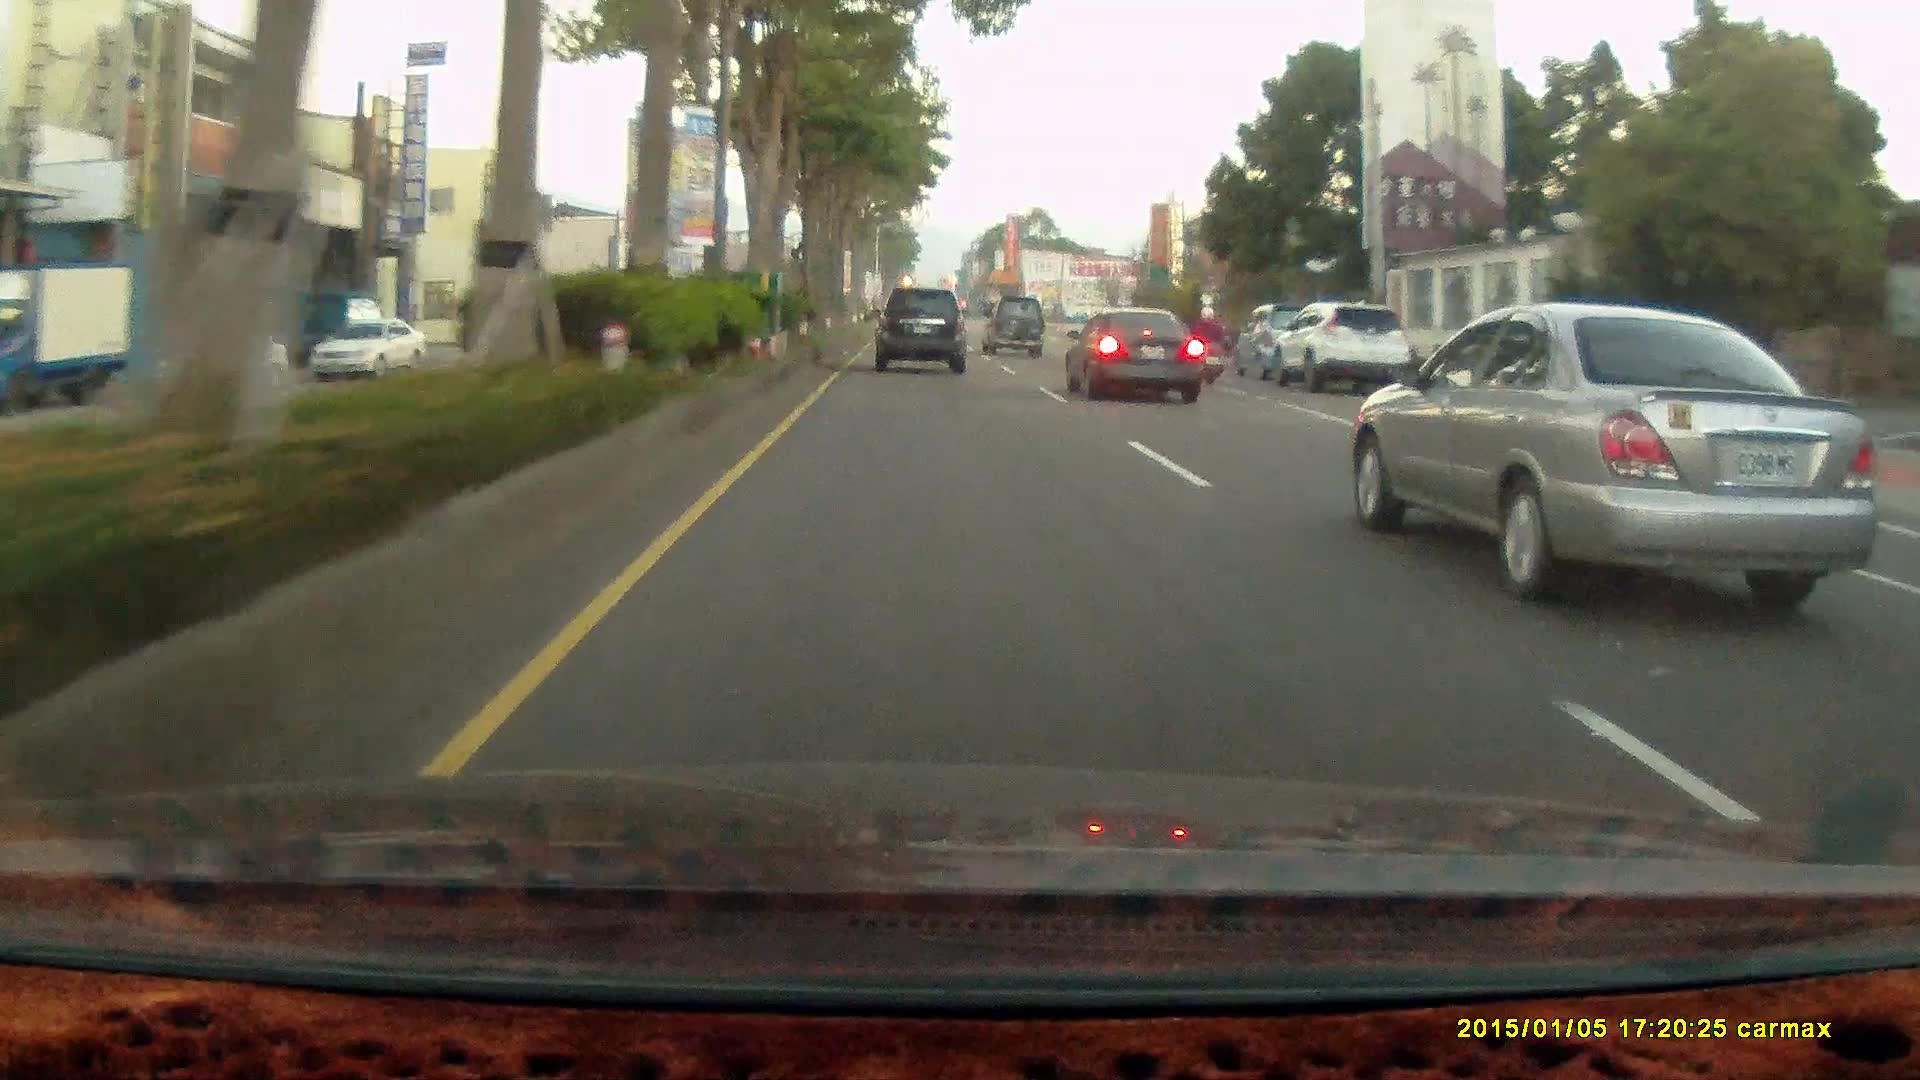rider: (1189, 302, 1226, 384)
vehicle: (1353, 299, 1881, 588), (1, 262, 151, 412), (0, 261, 128, 411), (1066, 304, 1211, 403), (1062, 305, 1204, 402), (1269, 299, 1409, 390), (1277, 304, 1413, 392), (150, 327, 292, 401), (150, 323, 291, 396), (872, 281, 972, 376), (870, 286, 965, 374), (1232, 299, 1330, 378), (311, 319, 429, 380), (983, 294, 1049, 360), (982, 293, 1043, 355)
